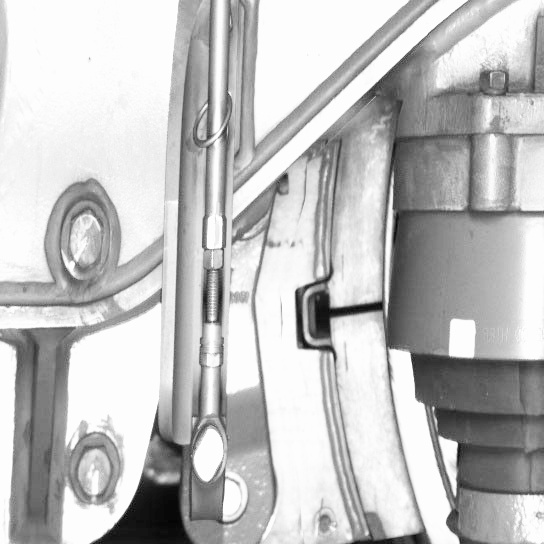ClosedKnifeSwitch: (316, 134, 434, 542)
